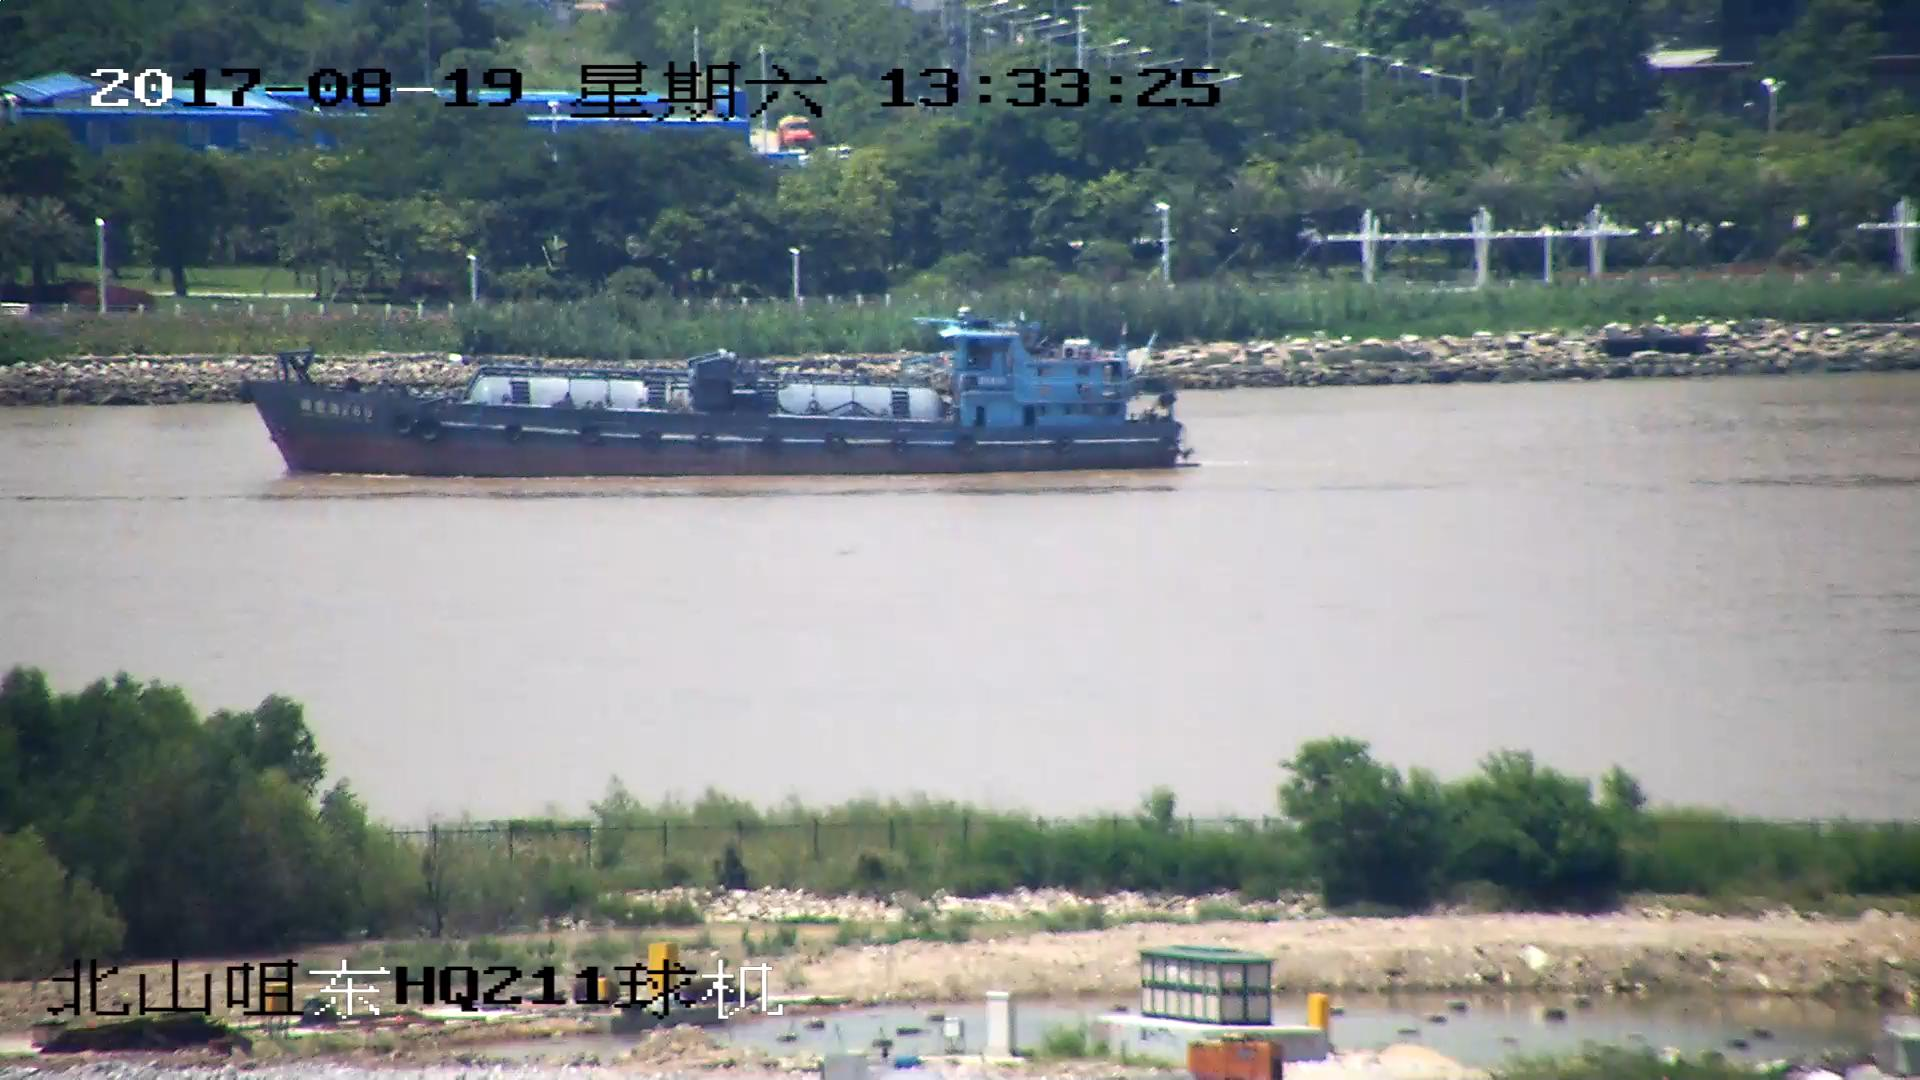bulk cargo carrier: (248, 308, 1190, 475)
